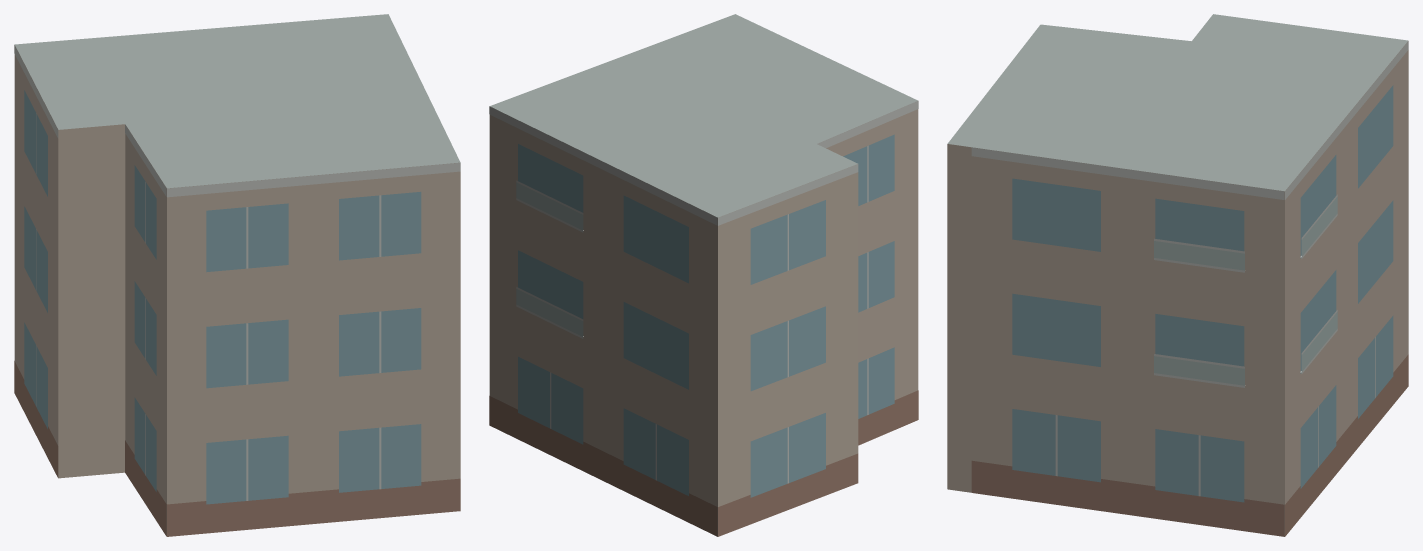
The model's file is survey-upis-32503423.glb.
3 renders of one model, left to right at view 1: azimuth 30°, elevation 25°; view 2: azimuth 150°, elevation 25°; view 3: azimuth 270°, elevation 25°, orthographic. The views are drawn at different scales.
Parts seen in each view (by area): view 1: survey-upis-32503423.tmp; view 2: survey-upis-32503423.tmp; view 3: survey-upis-32503423.tmp.
Part boxes in pixels (x1=…): survey-upis-32503423.tmp: x1=14, y1=14, x2=460, y2=536; survey-upis-32503423.tmp: x1=489, y1=14, x2=918, y2=536; survey-upis-32503423.tmp: x1=947, y1=14, x2=1408, y2=536.
Size of the model in its own units: 10.41 by 9.45 by 11.44.
